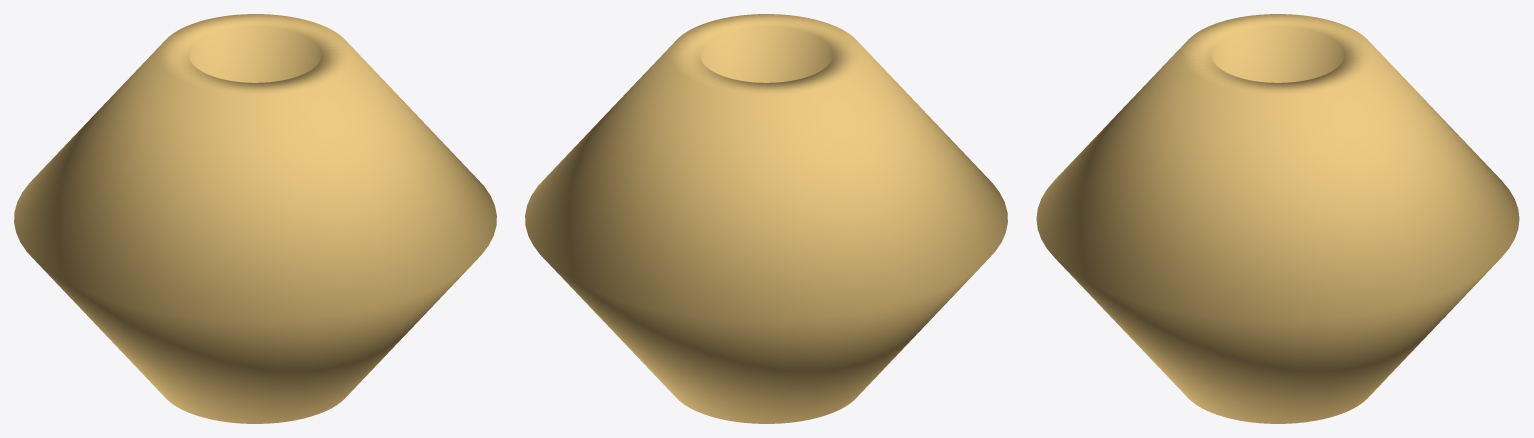
File: spacer-09-gold.glb
3 views of the same model, side by side, from view 1: azimuth 30°, elevation 25°; view 2: azimuth 150°, elevation 25°; view 3: azimuth 270°, elevation 25° (orthographic).
Visible parts, largest first — view 1: Spacer with through bore.014; view 2: Spacer with through bore.014; view 3: Spacer with through bore.014.
Boxes of the visible parts, <box> form: Spacer with through bore.014: <box>14,14,496,423</box>; Spacer with through bore.014: <box>525,14,1007,423</box>; Spacer with through bore.014: <box>1036,14,1519,423</box>.
Bounding box in the file's own units: 0.004 × 0.003 × 0.004.
